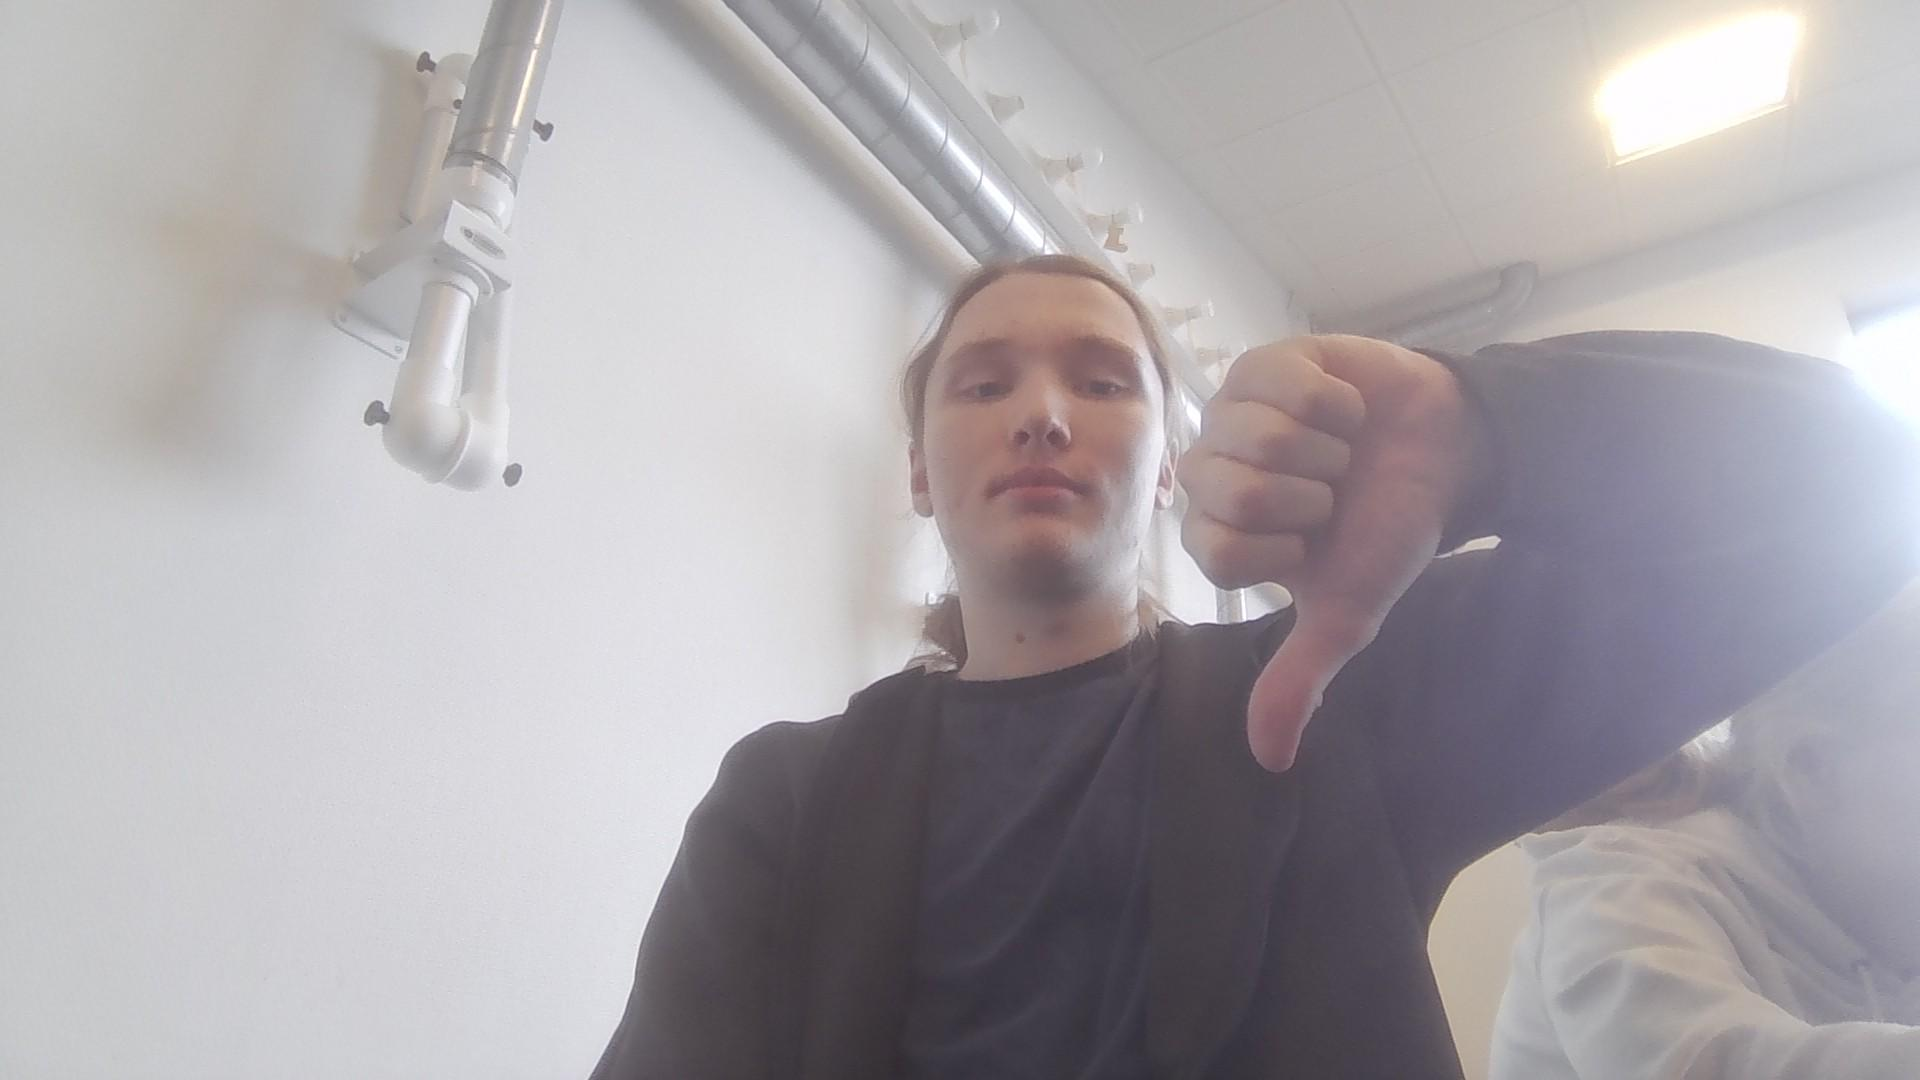thumbs down: (1170, 318, 1473, 785)
